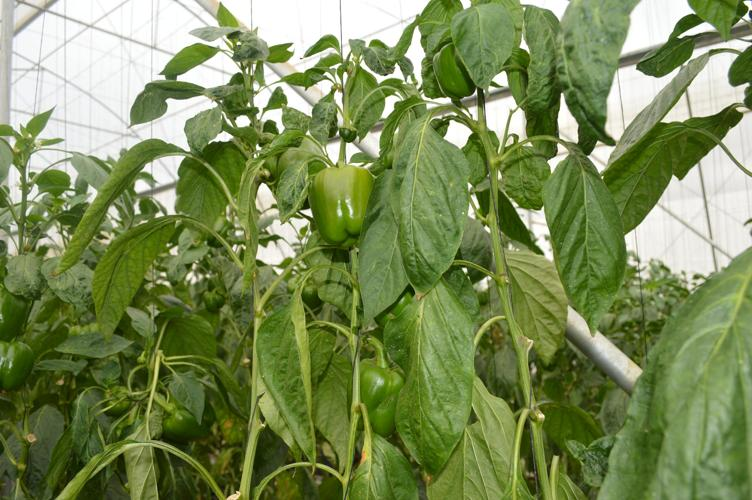BellPepper: (309, 153, 376, 250), (348, 348, 406, 443), (425, 40, 481, 104), (142, 403, 218, 448), (1, 337, 38, 394)
